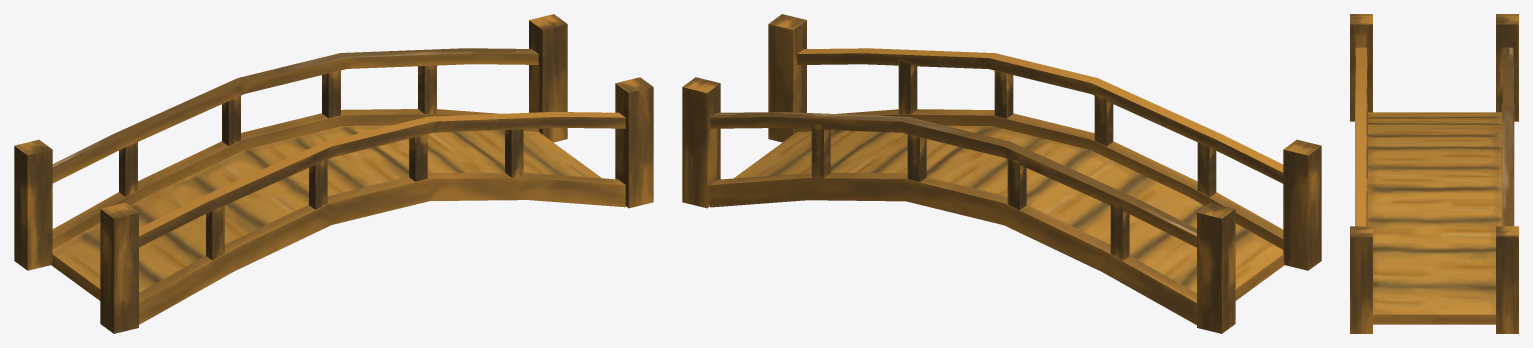
The model's file is Asset_Bridge2_Mesh.fbx.
3 views of the same model, side by side, from view 1: azimuth 30°, elevation 25°; view 2: azimuth 150°, elevation 25°; view 3: azimuth 270°, elevation 25° (orthographic). The views are drawn at different scales.
Visible parts, largest first — view 1: Asset_Bridge1; view 2: Asset_Bridge1; view 3: Asset_Bridge1.
Part boxes in pixels (box(x1,y1,x2,y2)): Asset_Bridge1: box(14, 14, 653, 333); Asset_Bridge1: box(682, 14, 1321, 333); Asset_Bridge1: box(1350, 14, 1518, 333).
Size of the model in its own units: 0.2515 by 0.0589 by 0.0806.
